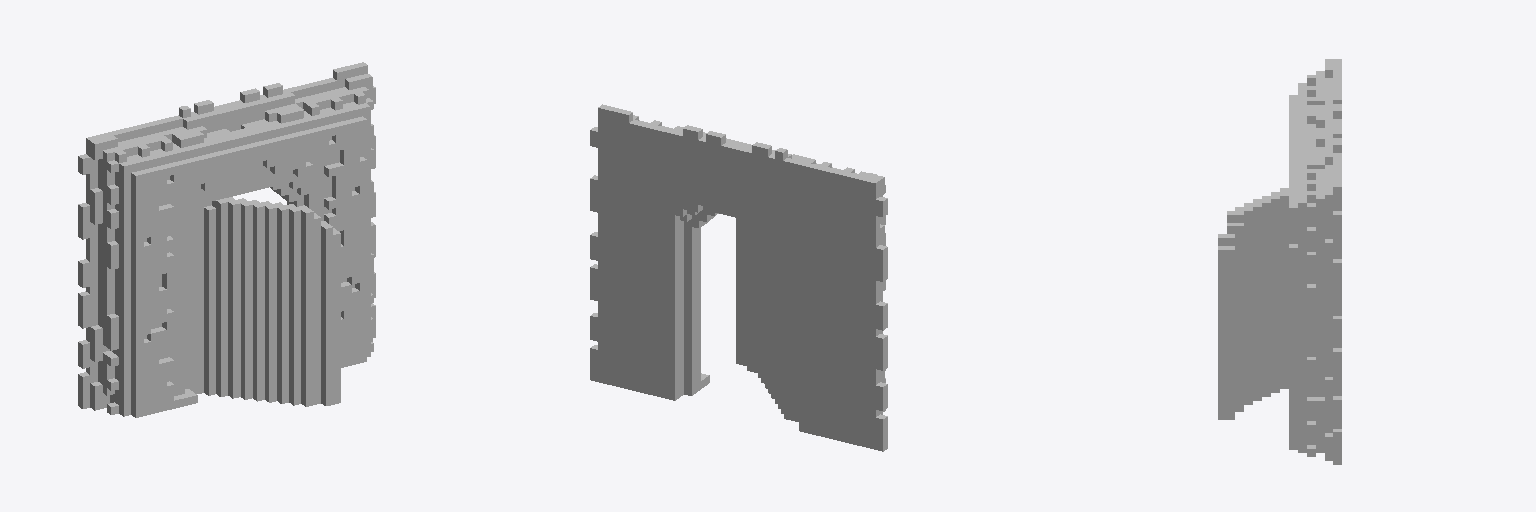
The model's file is Door 2.obj.
3 renders of one model, left to right at view 1: azimuth 30°, elevation 25°; view 2: azimuth 150°, elevation 25°; view 3: azimuth 270°, elevation 25°, orthographic.
Size of the model in its own units: 38 by 34 by 14.